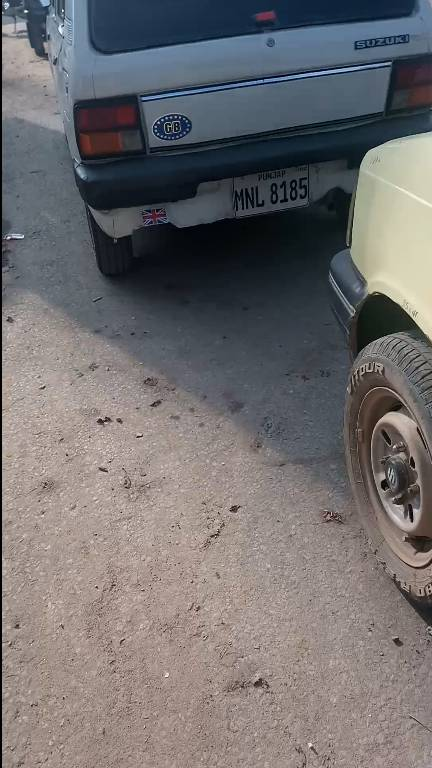number_plate: (224, 168, 318, 218)
